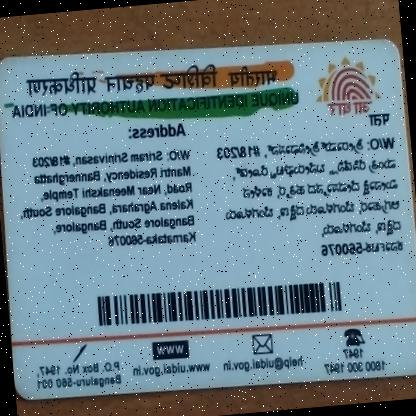aadhaar_card: (0, 30, 415, 405)
